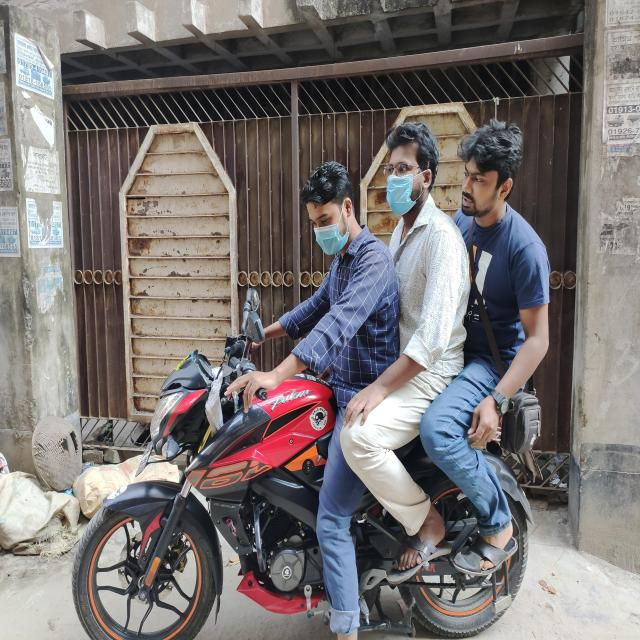triple_rider: (71, 117, 549, 640)
